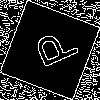P: (25, 25, 81, 74)
